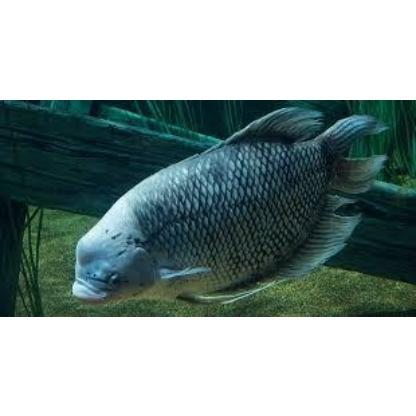gurame: (70, 106, 396, 302)
